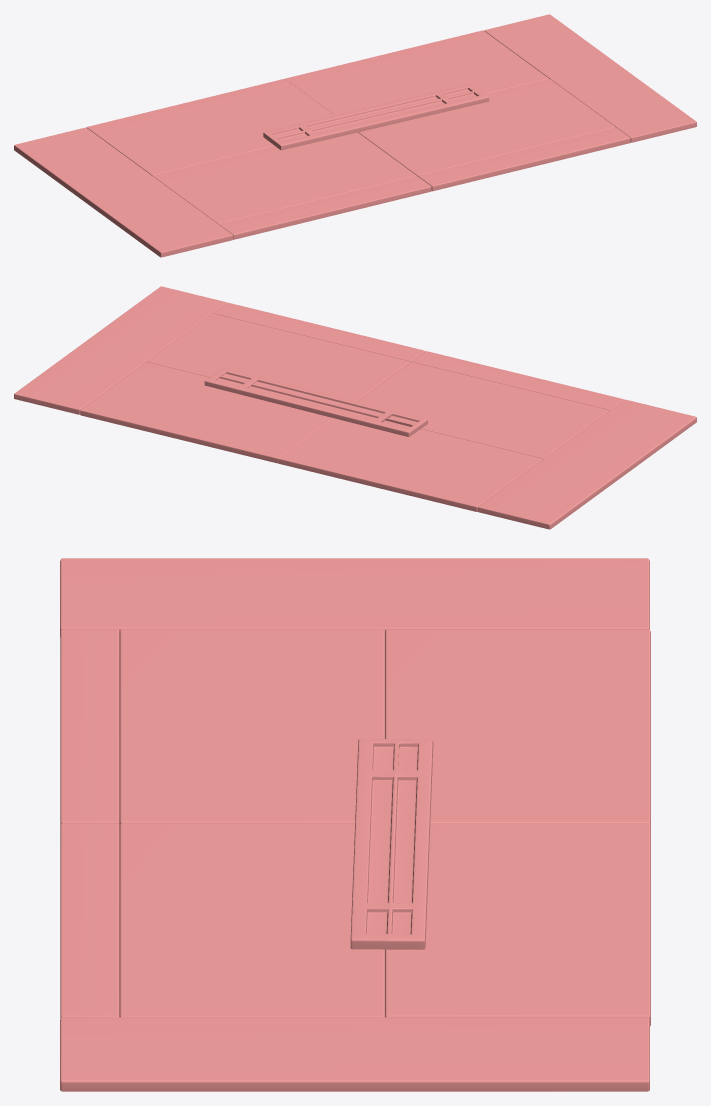
The model's file is Ceiling01Scifi.fbx.
The picture shows the model from 3 angles, top to bottom: view 1: azimuth 30°, elevation 25°; view 2: azimuth 150°, elevation 25°; view 3: azimuth 270°, elevation 25°; orthographic projection. The views are drawn at different scales.
Visible parts, largest first — view 1: Ceiling01; view 2: Ceiling01; view 3: Ceiling01.
Boxes of the visible parts, x1,y1,x2,y2 form: Ceiling01: (14, 14, 696, 257); Ceiling01: (14, 286, 696, 529); Ceiling01: (60, 558, 650, 1091).
Bounding box in the file's own units: 12904 × 226 × 6150.
